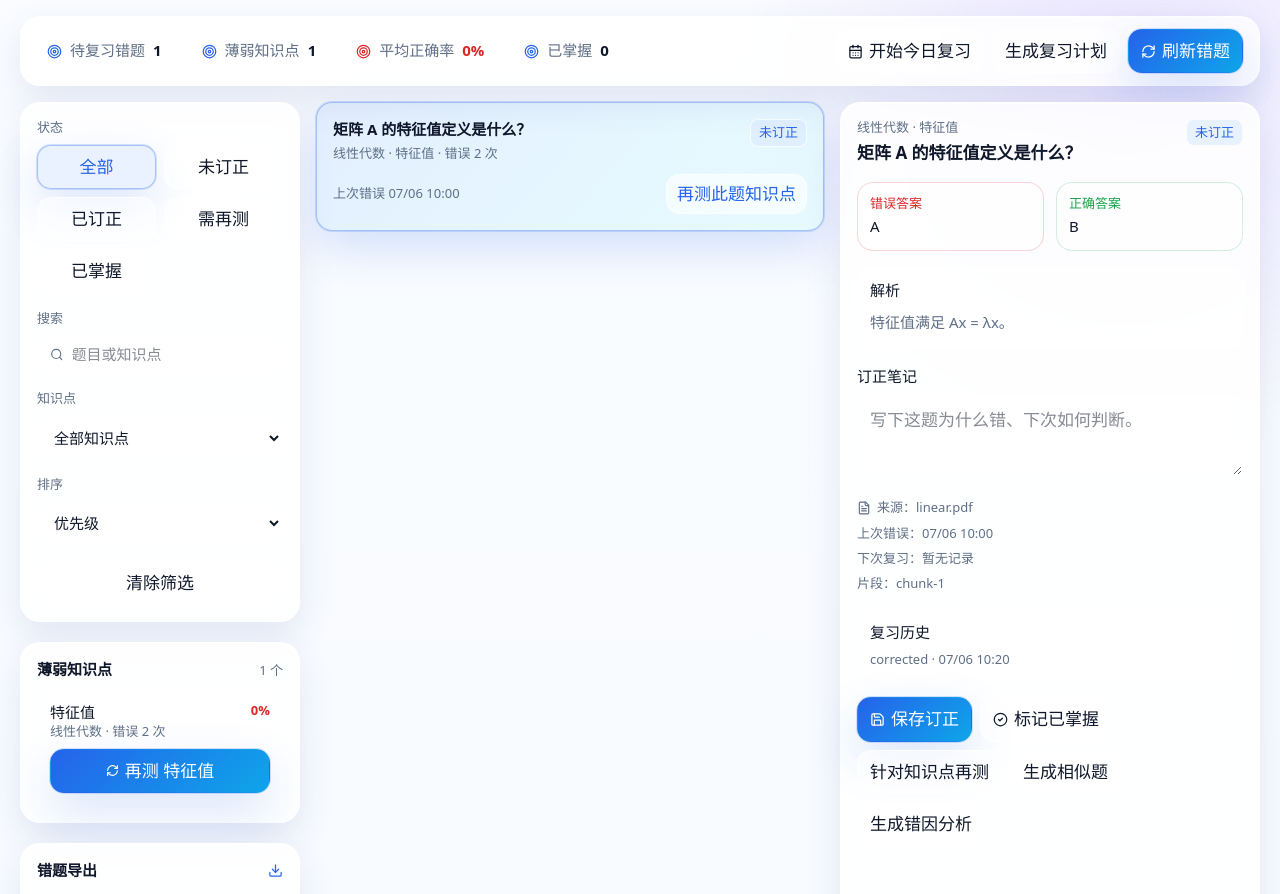
Test: ReviewWorkbench › generates a study plan
Click the button "生成复习计划" at (1056, 51), box [992,29,1120,73]
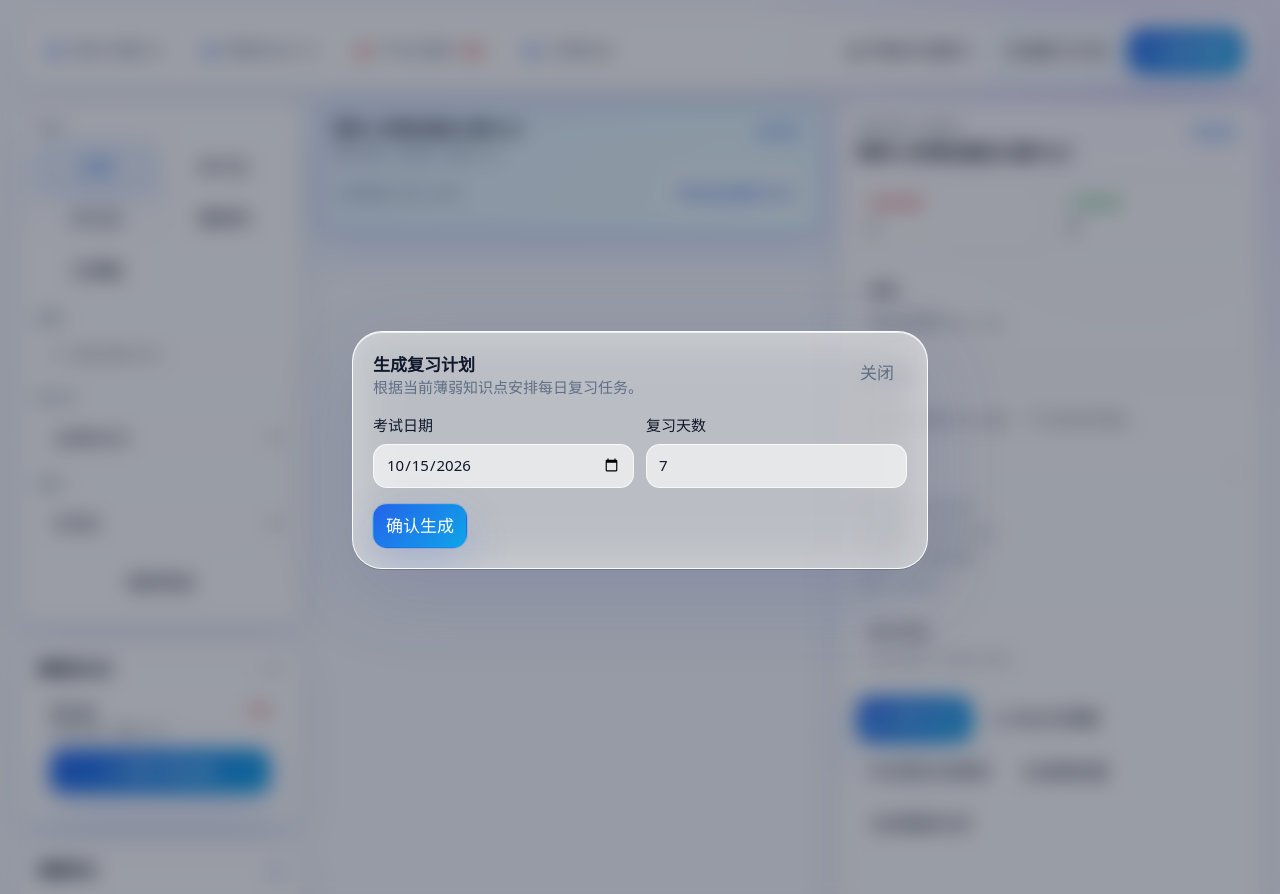
Click the button "确认生成" at (420, 526), box [373,504,467,548]
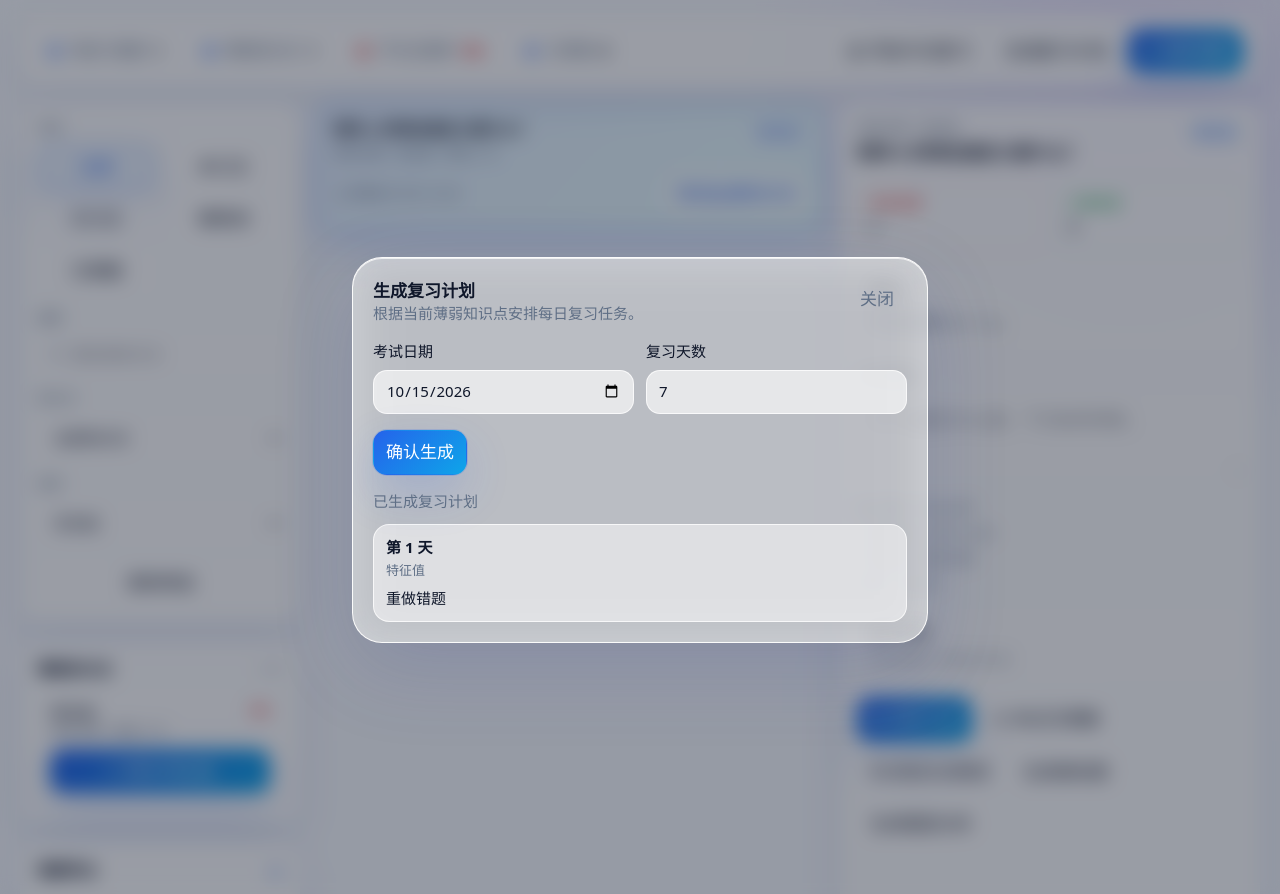
expect the heading "第 1 天" is shown: met, box [386,537,432,557]
expect the list item "重做错题" is shown: met, box [386,588,446,608]
